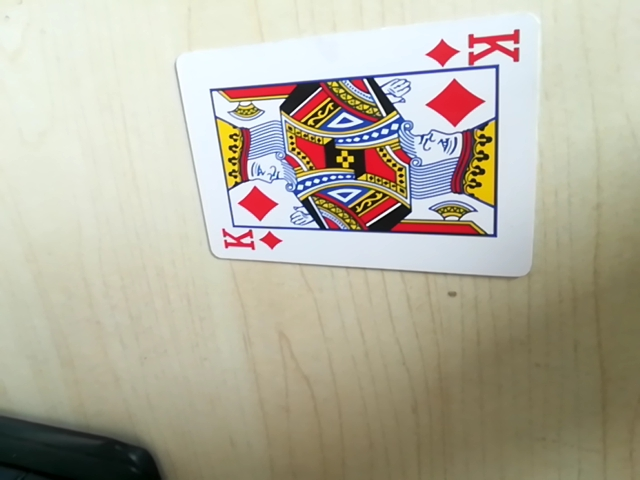fk k: (426, 25, 525, 73), (216, 225, 285, 258)
